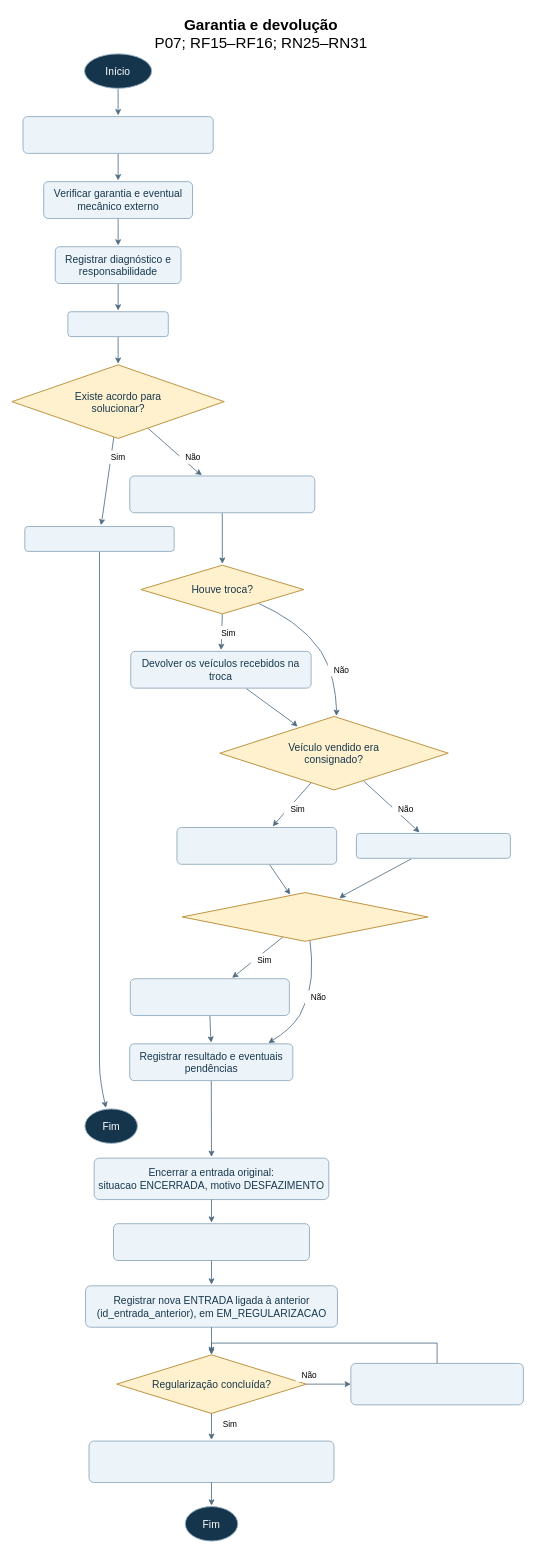
Some shapes in this 536 by 1554 pixel diagram are drawn without their labels. The shapes that lost their labels are listed below. From the top down, each one's centre as x and y in pixels, then its label:
At [117,135]: "Localizar venda e abrir ocorrência na loja".
At [117,324]: "Negociar solução".
At [222,494]: "Registrar desfazimento e retorno do veículo vendido".
At [99,539]: "Executar e registrar solução".
At [256,845]: "Devolver parte da loja e avisar proprietário sobre o restante".
At [433,845]: "Registrar restituição pela loja".
At [304,916]: "Houve financiamento?".
At [210,997]: "Tratar com o banco e registrar orientação recebida".
At [211,1242]: "Realizar nova avaliação do veículo".
At [437,1384]: "Manter em EM_REGULARIZACAO e aguardar conclusão".
At [211,1461]: "Registrar data_regularizacao e observações; entrada volta a ATIVA (disponível)".
